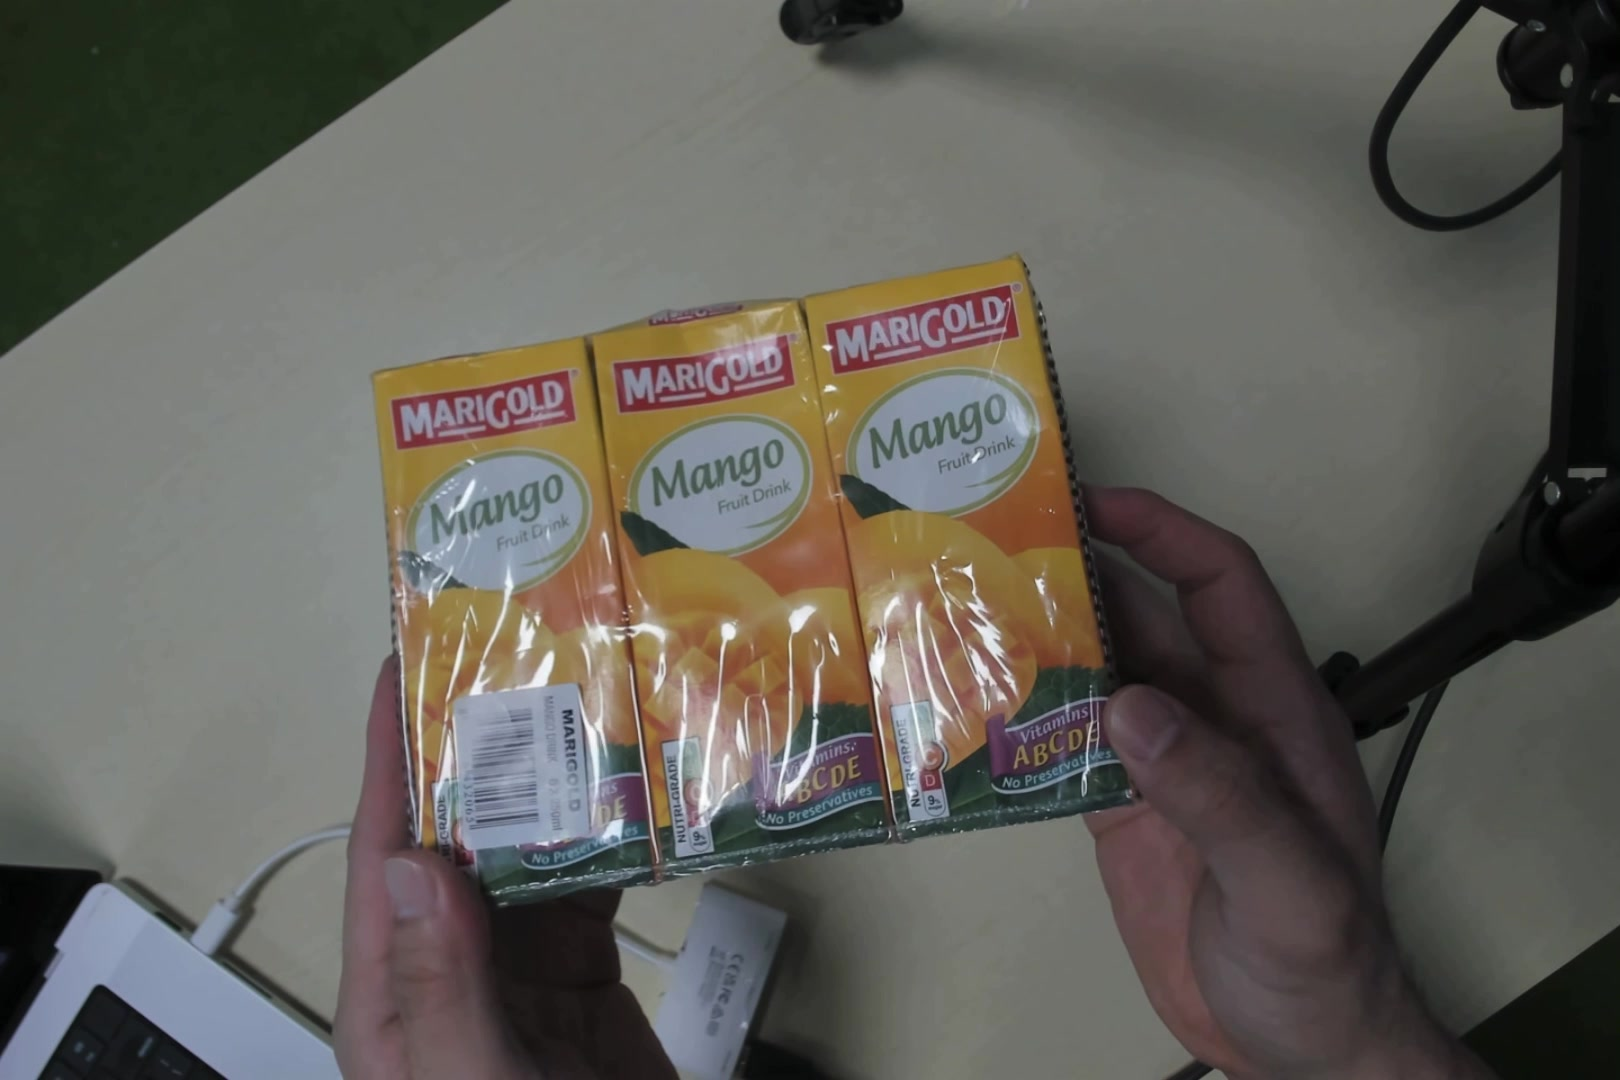FruitJuice_700-799g_Halal_NonHealthy: (386, 262, 1129, 859)
